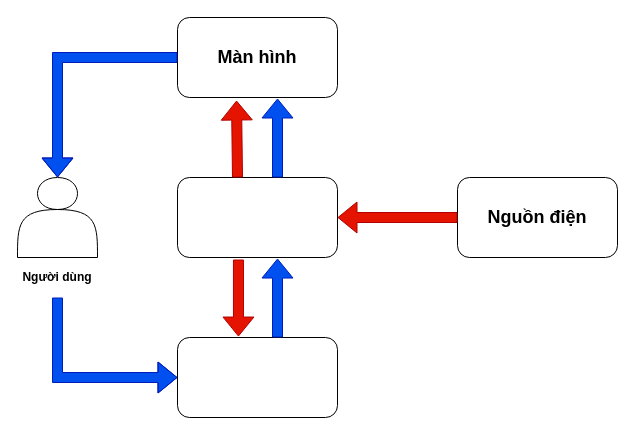
This 635x435 diagram has some shape labels left out. The shapes that lost their labels are listed below. From the top down, each one's box as (x1, y1, x2, y2) in pixels, then its label:
(176, 176, 338, 258): Vi điều khiển
(176, 336, 338, 418): Nút bấm
